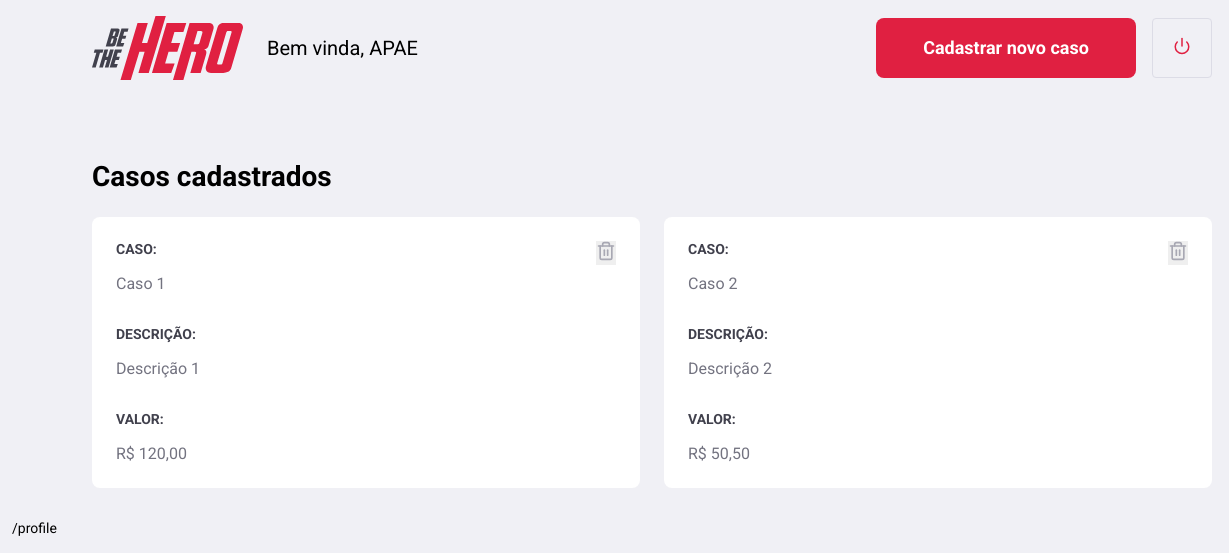
Scenario: Profile page › deletes an incident
Click the 2nd button at (606, 253), box [596, 241, 616, 265]
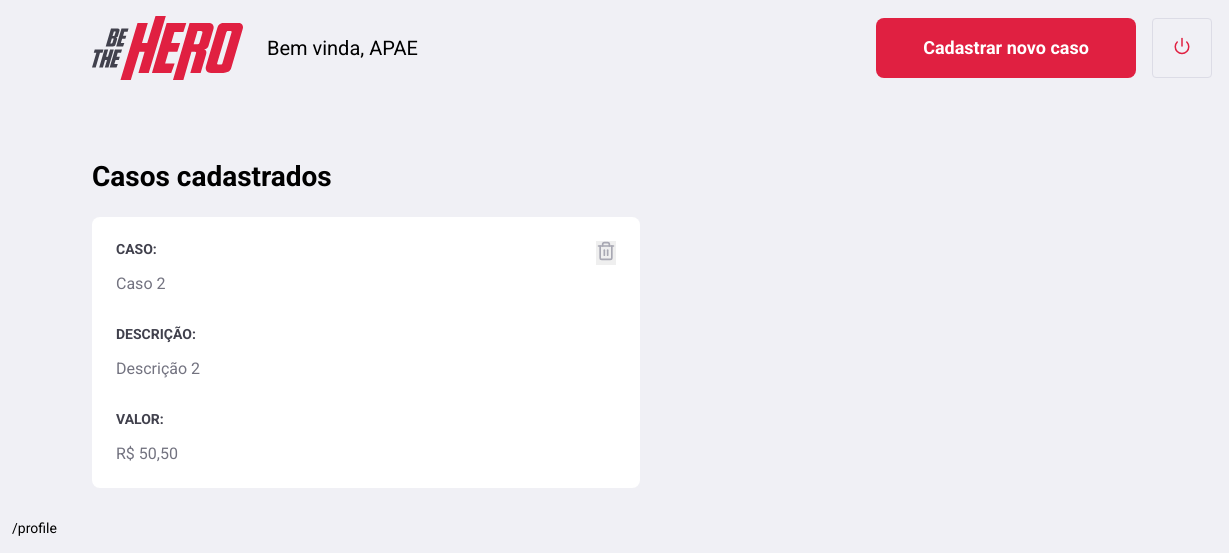
Expected: the text "Caso 2" is shown, [116, 274, 166, 293]
Now the text "Caso 1" is gone
